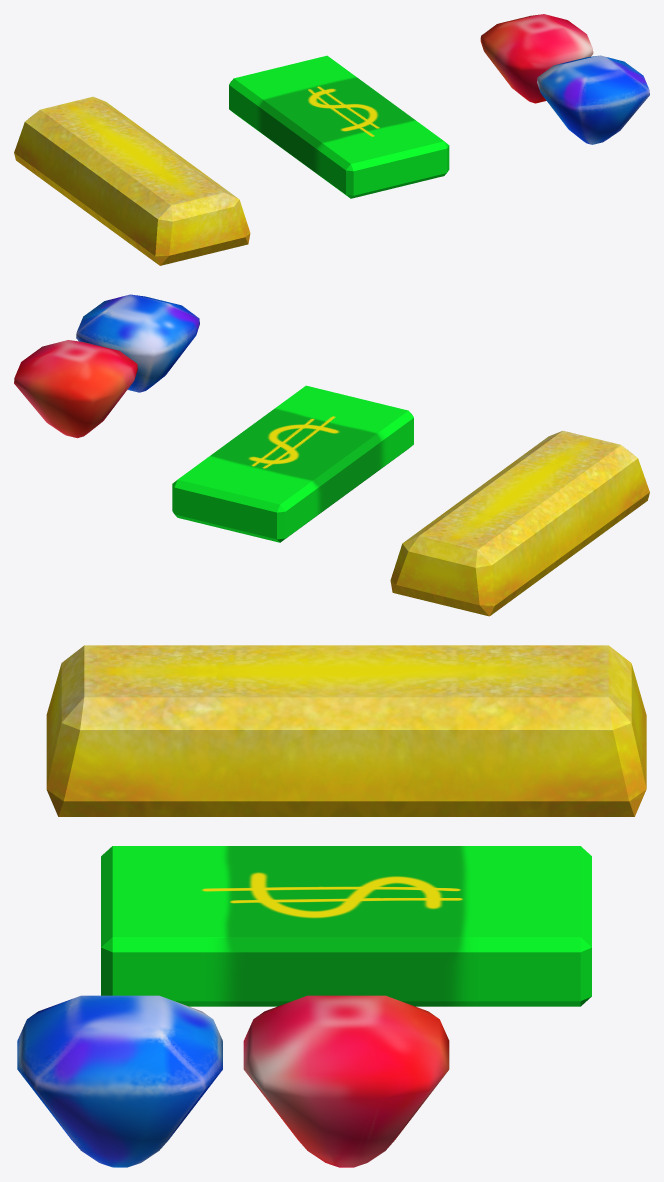
File: treasure.fbx
3 renders of one model, top to bottom at view 1: azimuth 30°, elevation 25°; view 2: azimuth 150°, elevation 25°; view 3: azimuth 270°, elevation 25°, orthographic. The views are drawn at different scales.
Parts seen in each view (by area): view 1: Cube, Cube.001, Cube.003, Cube.002; view 2: Cube, Cube.001, Cube.002, Cube.003; view 3: Cube, Cube.001, Cube.002, Cube.003.
Boxes of the visible parts, box(x1,y1,x2,y2) form: Cube: box(14, 96, 250, 265); Cube.001: box(229, 55, 449, 198); Cube.003: box(537, 55, 649, 144); Cube.002: box(480, 14, 593, 103); Cube: box(390, 430, 649, 616); Cube.001: box(172, 385, 413, 542); Cube.002: box(14, 340, 137, 438); Cube.003: box(76, 294, 199, 392); Cube: box(46, 645, 646, 816); Cube.001: box(101, 846, 591, 1006); Cube.002: box(243, 995, 449, 1167); Cube.003: box(17, 995, 222, 1167).
Size of the model in its own units: 2.19 by 0.3297 by 1.2.
